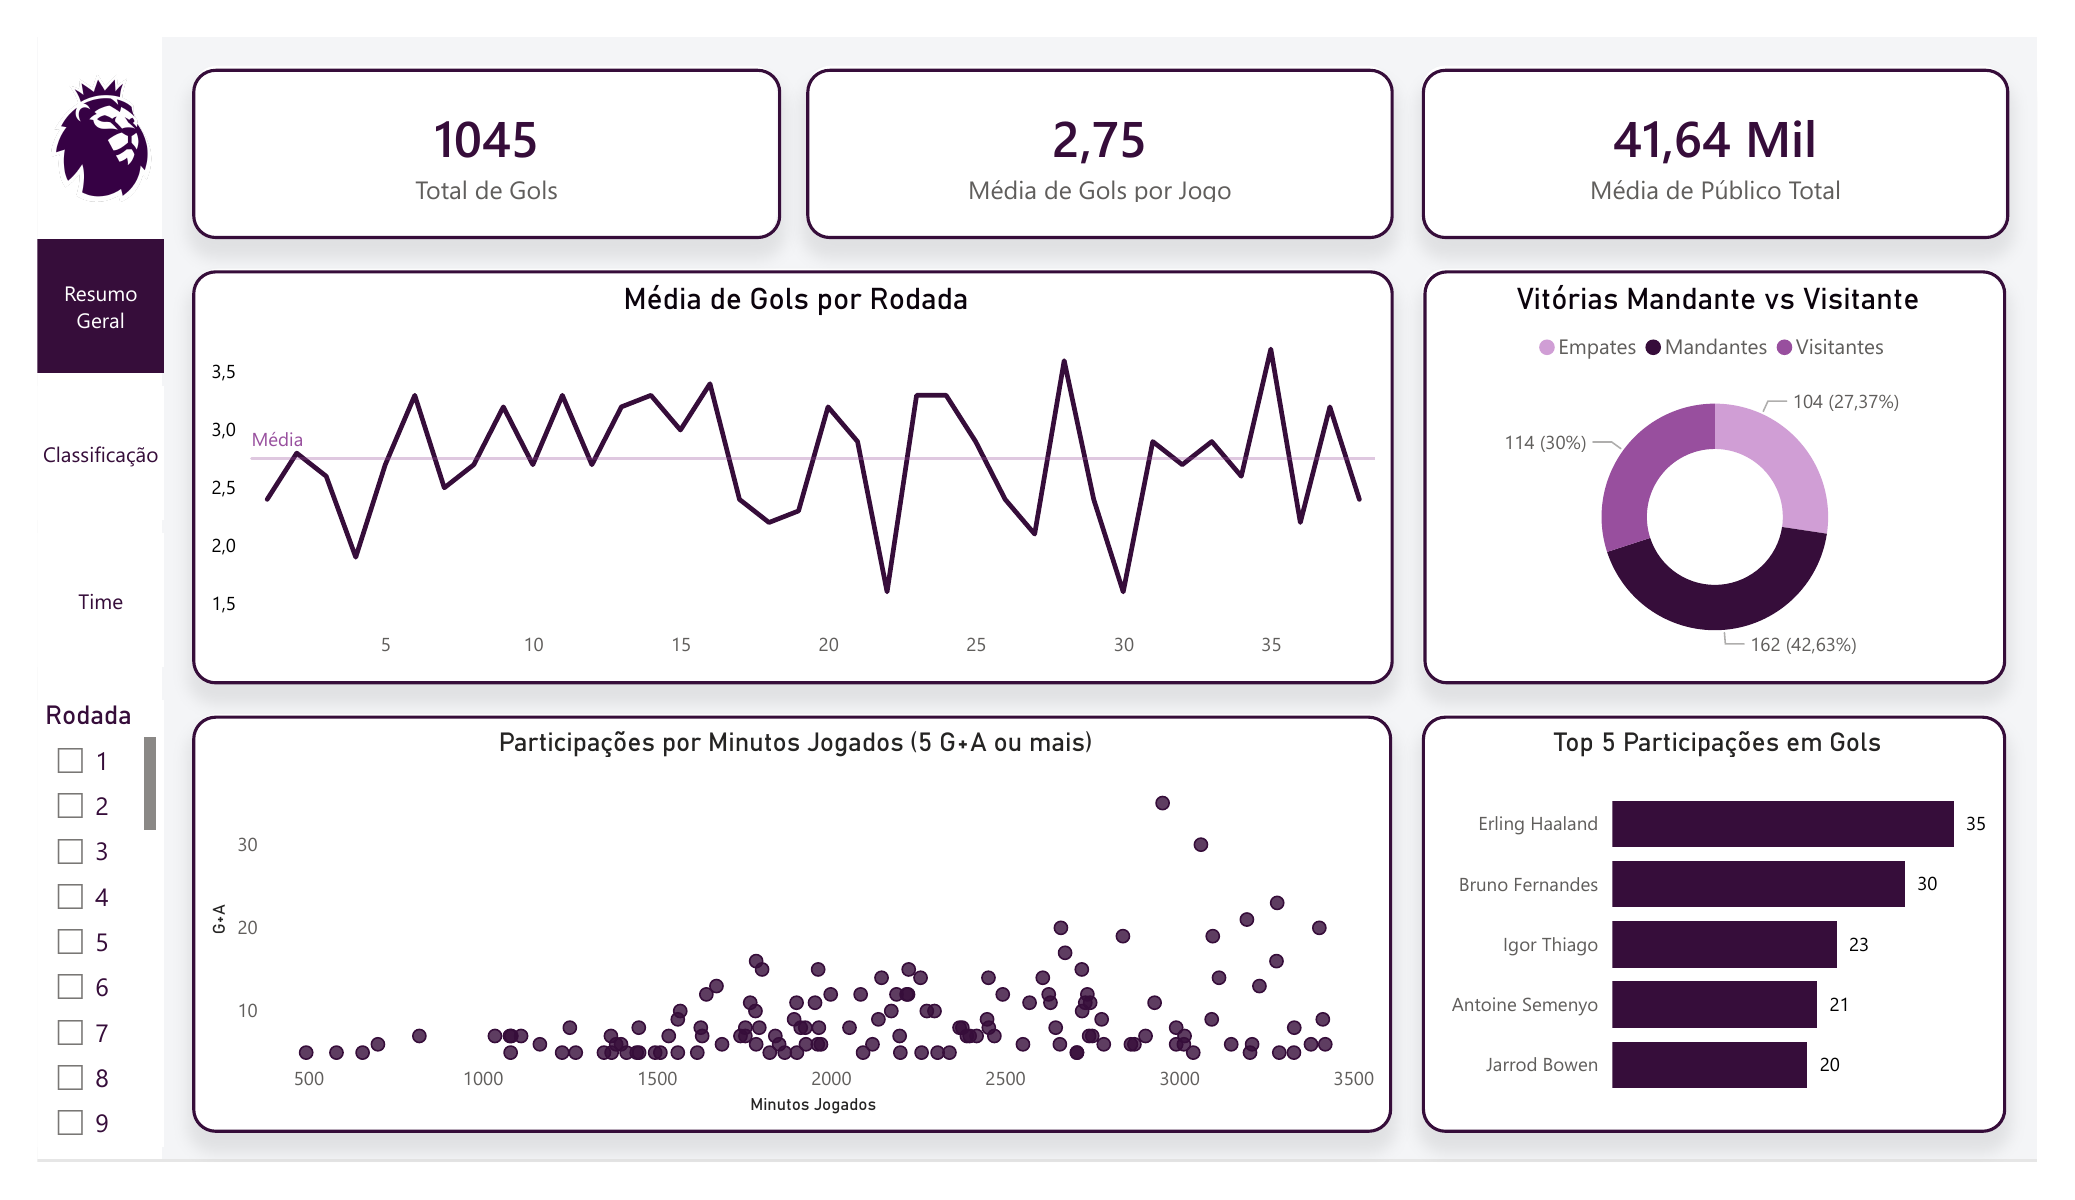

This screenshot's page, from the dashboard's own definition file:
{"tool":"powerbi","page":{"name":"Resumo Geral","canvas":[1280,720],"ordinal":0},"visuals":[{"type":"cardVisual","fields":{"Data":["_Medidas.Total Gols"]},"box":[99.3,19.5,376.8,109.1],"z":0},{"type":"lineChart","title":"Média de Gols por Rodada","fields":{"Y":["_Medidas.Media Gols por Jogo"],"Category":["Partidas.round"]},"box":[99.2,148.8,768.4,265.5],"z":1000},{"type":"cardVisual","title":"rter","fields":{"Data":["_Medidas.Média de Público"]},"box":[885.8,19.5,376,109.1],"z":2000},{"type":"donutChart","title":"Vitórias Mandante vs Visitante","fields":{"Y":["_Medidas.Jogos Empatados","_Medidas.Jogos Vencidos Mandante","_Medidas.Jogos Vencidos Visitante"]},"box":[886.7,149.3,373,265],"z":3000},{"type":"image","box":[0,0,80.7,128.4],"z":4000},{"type":"pageNavigator","box":[0,128.9,81.1,275.6],"z":5000},{"type":"slicer","title":"Rodada","fields":{"Values":["Partidas.round"]},"box":[0,423.8,80.7,286.4],"z":6000},{"type":"clusteredBarChart","title":"Top 5 Participações em Gols","fields":{"Category":["Jogadores.name"],"Y":["Sum(Estatísticas dos Jogadores.goals_assists)"]},"box":[886.2,434.4,373.8,266.9],"z":7000},{"type":"scatterChart","title":"Participações por Minutos Jogados (5 G+A ou mais)","fields":{"Category":["Jogadores.name"],"X":["Sum(Estatísticas dos Jogadores.minutes_played)"],"Y":["Sum(Estatísticas dos Jogadores.goals_assists)"]},"box":[99,434,768,267],"z":8000},{"type":"cardVisual","title":"rter","fields":{"Data":["_Medidas.Media Gols por Jogo"]},"box":[492.1,19.5,376,109.1],"z":9000}]}

Visuals, with their boxes in screenshot pixels (x1, y1, x2, y2):
cardVisual - _Medidas.Total Gols: detection(207, 68, 788, 236)
"Média de Gols por Rodada" lineChart: detection(207, 267, 1392, 677)
"rter" cardVisual: detection(1420, 68, 2000, 236)
"Vitórias Mandante vs Visitante" donutChart: detection(1421, 268, 1997, 677)
image: detection(54, 38, 178, 236)
pageNavigator: detection(54, 237, 179, 662)
"Rodada" slicer: detection(54, 691, 178, 1133)
"Top 5 Participações em Gols" clusteredBarChart: detection(1421, 708, 1997, 1119)
"Participações por Minutos Jogados (5 G+A ou mais)" scatterChart: detection(207, 707, 1391, 1119)
"rter" cardVisual: detection(813, 68, 1393, 236)
